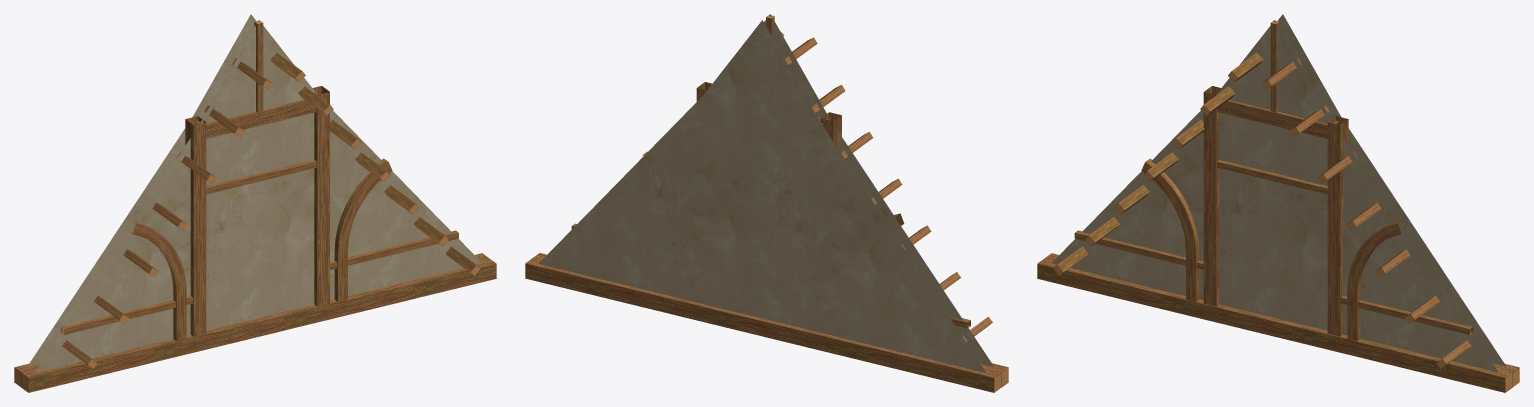
The model's file is Roof_Front_Brick8.glb.
The picture shows the model from 3 angles, left to right: view 1: azimuth 30°, elevation 25°; view 2: azimuth 150°, elevation 25°; view 3: azimuth 330°, elevation 25°; orthographic projection.
Visible parts, largest first — view 1: Roof_Front_Brick8; view 2: Roof_Front_Brick8; view 3: Roof_Front_Brick8.
Boxes of the visible parts, x1,y1,x2,y2 form: Roof_Front_Brick8: [14, 14, 496, 392]; Roof_Front_Brick8: [525, 14, 1008, 392]; Roof_Front_Brick8: [1037, 14, 1519, 392].
Size of the model in its own units: 8.51 by 5.45 by 1.13.
Materials: 2 (2 with a texture image).
